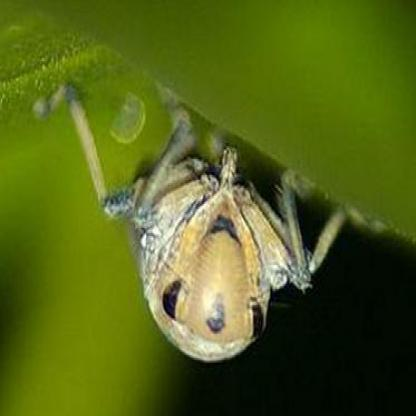green-leafhopper: (83, 99, 331, 364)
